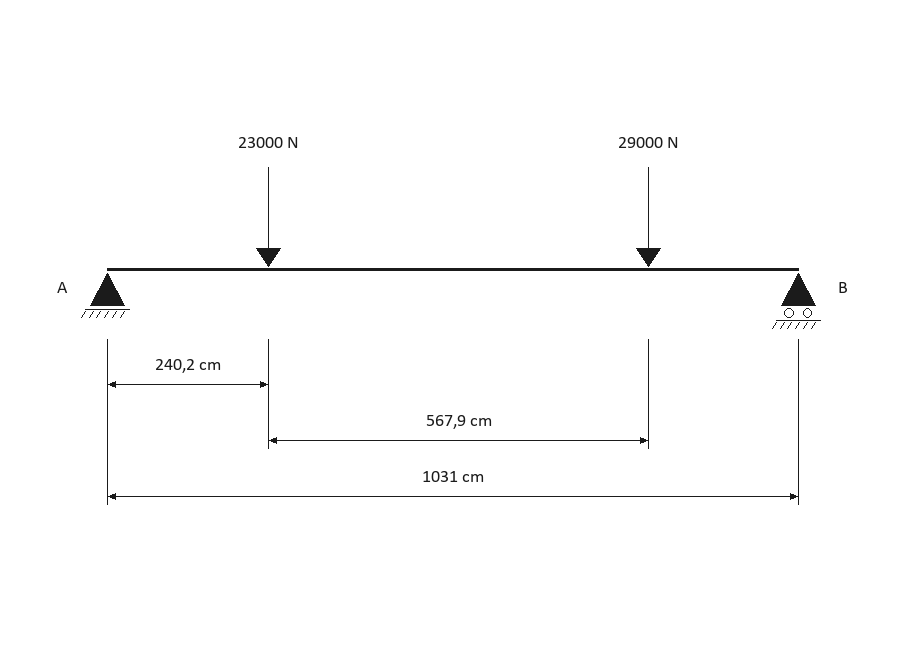pin_support: (81, 273, 130, 318)
point_load: (256, 167, 281, 267), (636, 167, 661, 267)
roller_support: (772, 273, 821, 329)
